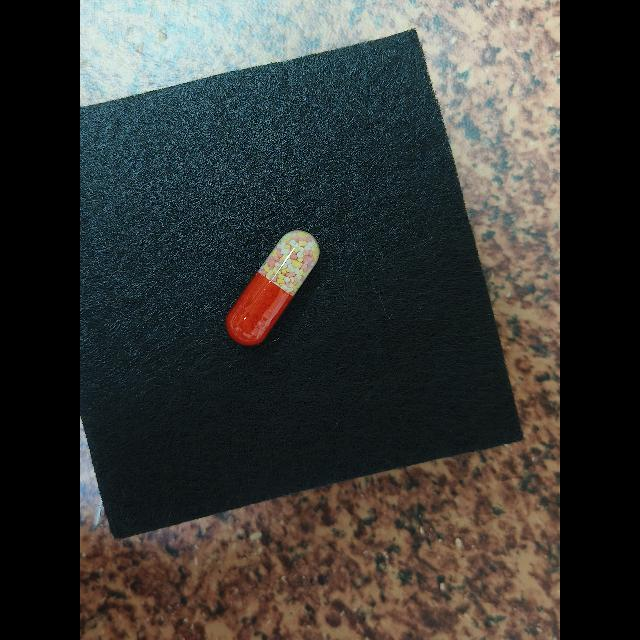Intact Capsule: (225, 230, 320, 346)
